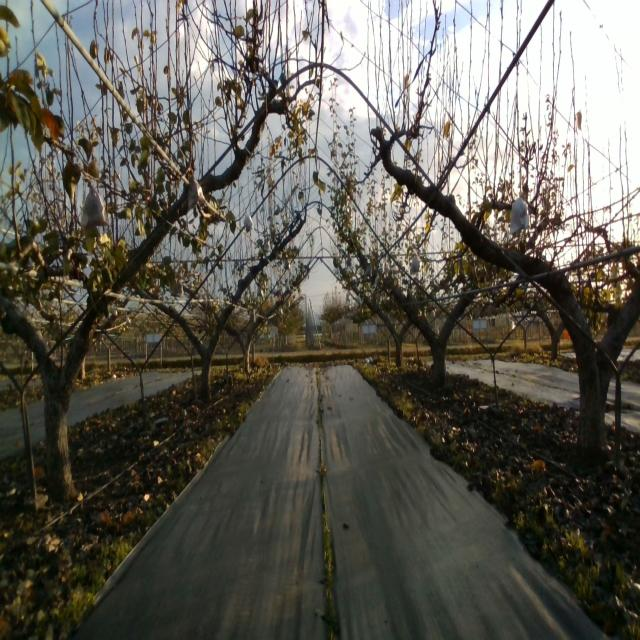pearbags: (82, 181, 110, 232), (509, 192, 532, 235), (187, 173, 206, 210), (410, 255, 420, 275)
